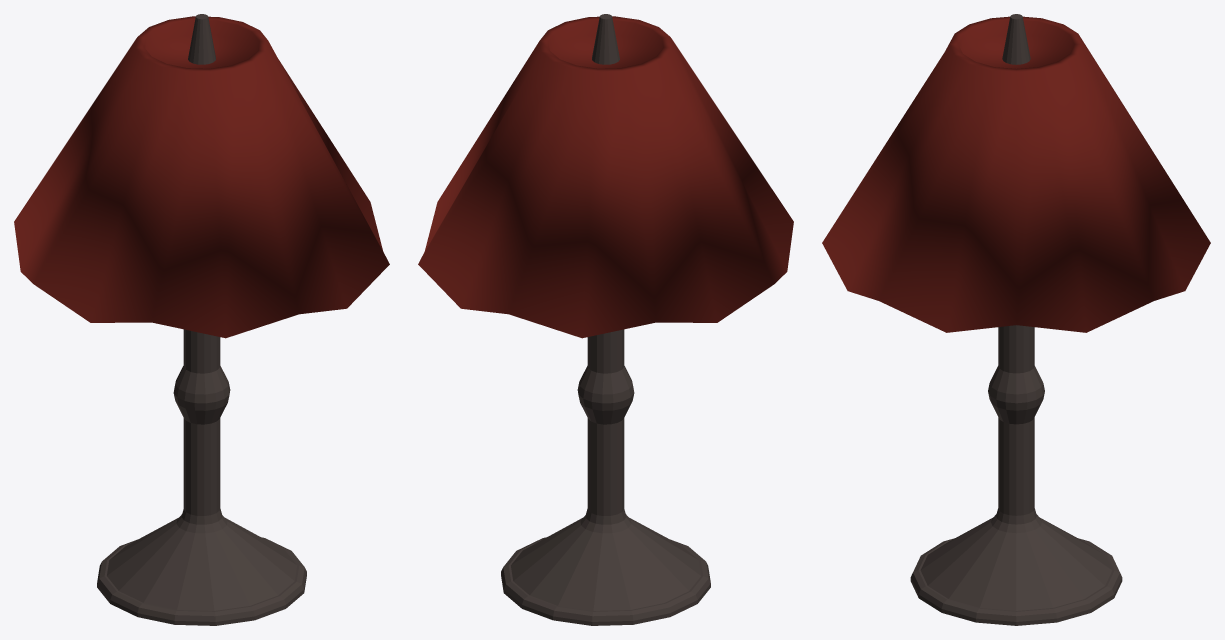
Rendered from Lamp.fbx.
3 renders of one model, left to right at view 1: azimuth 30°, elevation 25°; view 2: azimuth 150°, elevation 25°; view 3: azimuth 270°, elevation 25°, orthographic.
Visible parts, largest first — view 1: Circle; view 2: Circle; view 3: Circle.
Boxes of the visible parts, x1,y1,x2,y2 form: Circle: (14,14,389,625); Circle: (418,14,793,625); Circle: (822,14,1210,625).
Bounding box in the file's own units: 368 × 589 × 368.
